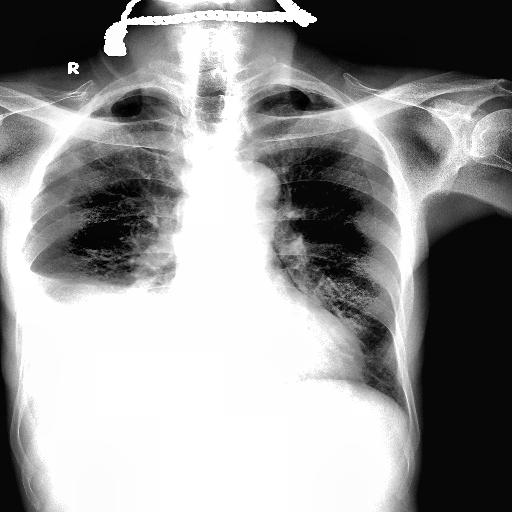10- Pleural effusion: (16, 236, 184, 390), (12, 258, 184, 392), (10, 252, 164, 362)
7- Lung Opacity: (36, 266, 125, 307)
